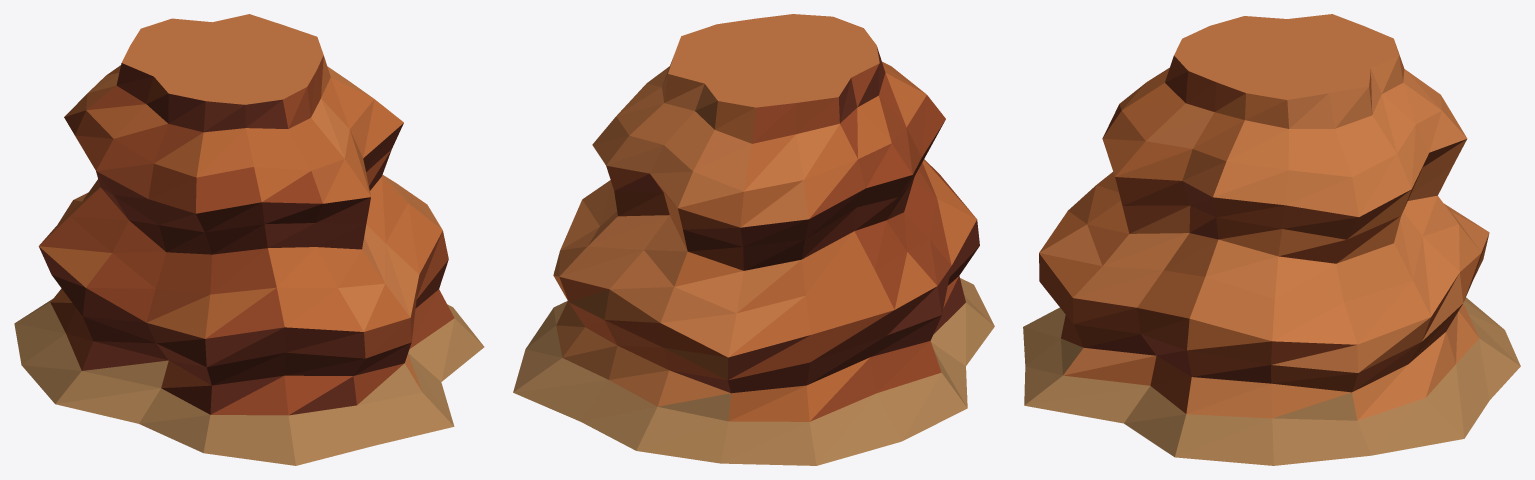
The model's file is rockD.glb.
3 views of the same model, side by side, from view 1: azimuth 30°, elevation 25°; view 2: azimuth 150°, elevation 25°; view 3: azimuth 270°, elevation 25° (orthographic). The views are drawn at different scales.
Visible parts, largest first — view 1: RedRockKitD; view 2: RedRockKitD; view 3: RedRockKitD.
Part boxes in pixels (x1,y1,x2,y2): RedRockKitD: [14, 14, 484, 465]; RedRockKitD: [513, 14, 994, 465]; RedRockKitD: [1023, 14, 1520, 465].
Size of the model in its own units: 5.75 by 4.1 by 6.13.
